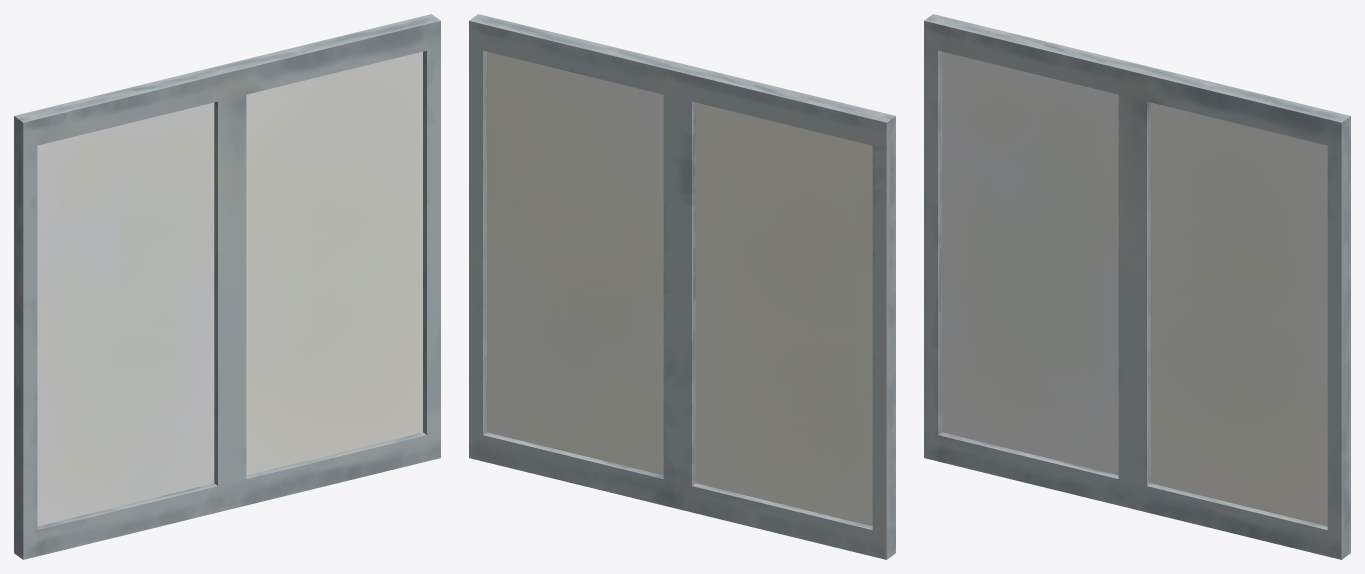
File: door.gltf
The picture shows the model from 3 angles, left to right: view 1: azimuth 30°, elevation 25°; view 2: azimuth 150°, elevation 25°; view 3: azimuth 330°, elevation 25°; orthographic projection.
Visible parts, largest first — view 1: Door; view 2: Door; view 3: Door.
Boxes of the visible parts, x1,y1,x2,y2 form: Door: [14, 14, 440, 559]; Door: [469, 14, 895, 559]; Door: [924, 14, 1350, 559].
Bounding box in the file's own units: 2 × 2 × 0.0771.
2 materials, 2 textured.
